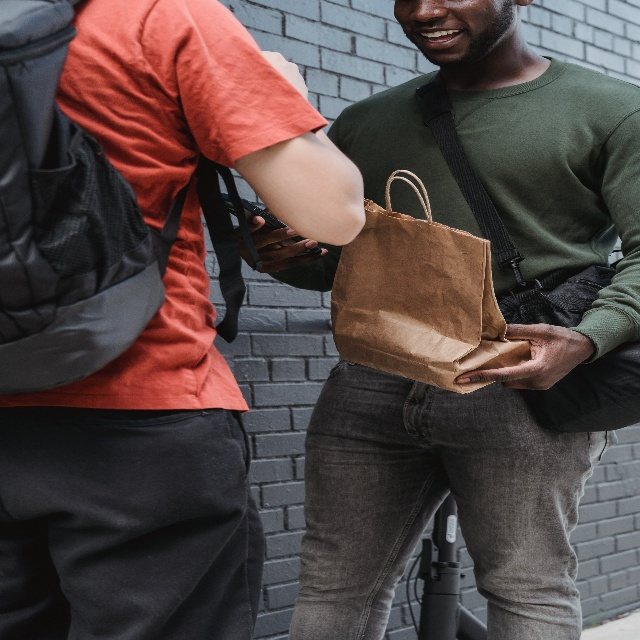Sin_guantes: (456, 311, 585, 392), (233, 211, 327, 275), (262, 50, 309, 101)
